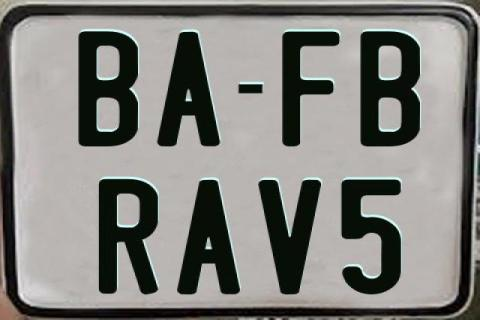0: (341, 180, 402, 300)
A: (177, 179, 245, 297), (156, 31, 220, 145)
B: (358, 31, 422, 149), (76, 29, 140, 145)
F: (281, 32, 339, 152)
R: (97, 177, 156, 293)
V: (258, 178, 323, 294)
